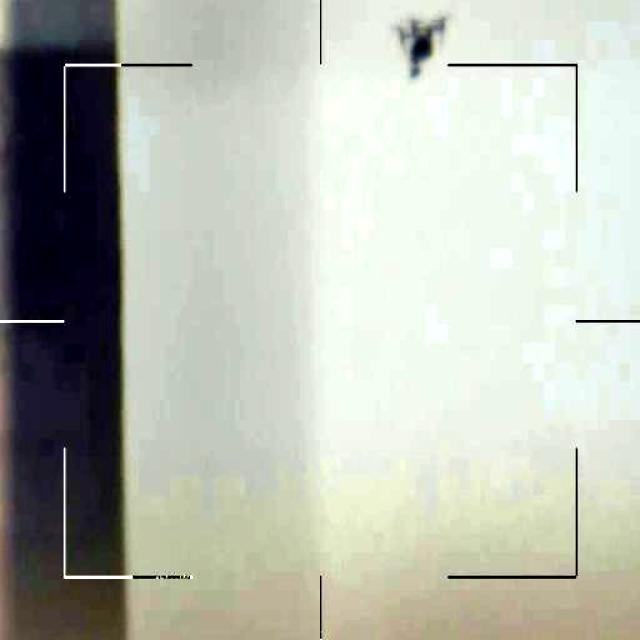bird: (388, 5, 456, 76)
